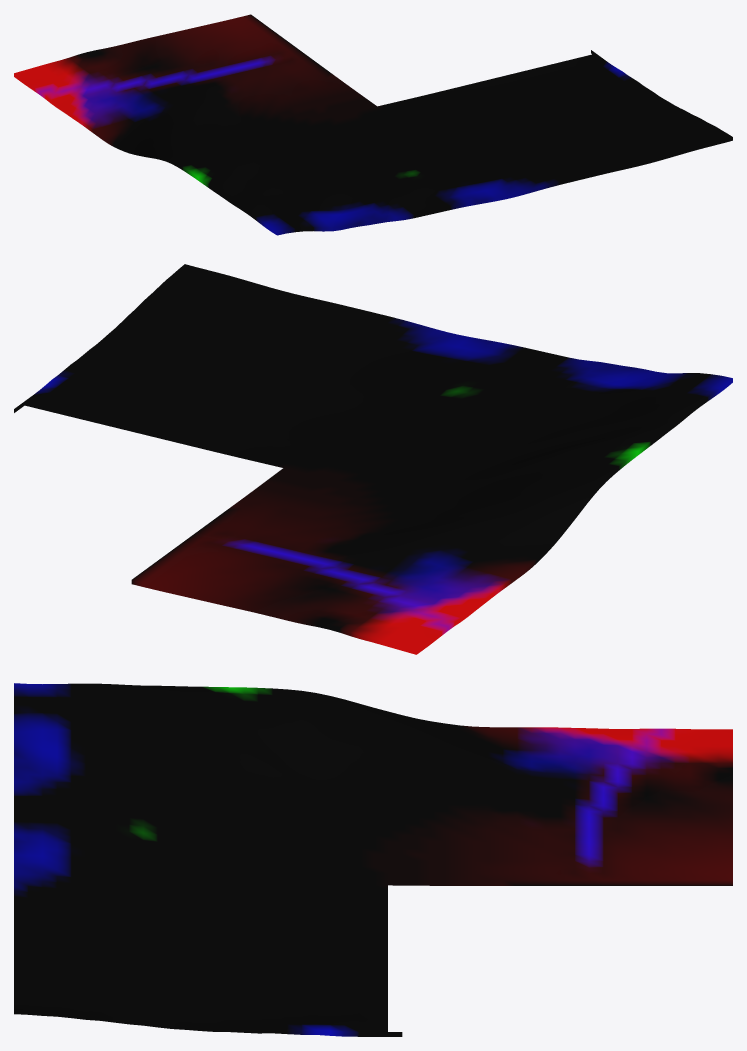
The model's file is coast_10_13.glb.
3 views of the same model, one above another, from view 1: azimuth 30°, elevation 25°; view 2: azimuth 150°, elevation 25°; view 3: azimuth 270°, elevation 25° (orthographic). The views are drawn at different scales.
Parts seen in each view (by area): view 1: terrain; view 2: terrain; view 3: terrain.
Boxes of the visible parts, x1,y1,x2,y2 form: terrain: (14, 14, 732, 235); terrain: (14, 264, 732, 654); terrain: (14, 683, 732, 1036).
Bounding box in the file's own units: 200 × 15.73 × 200.
